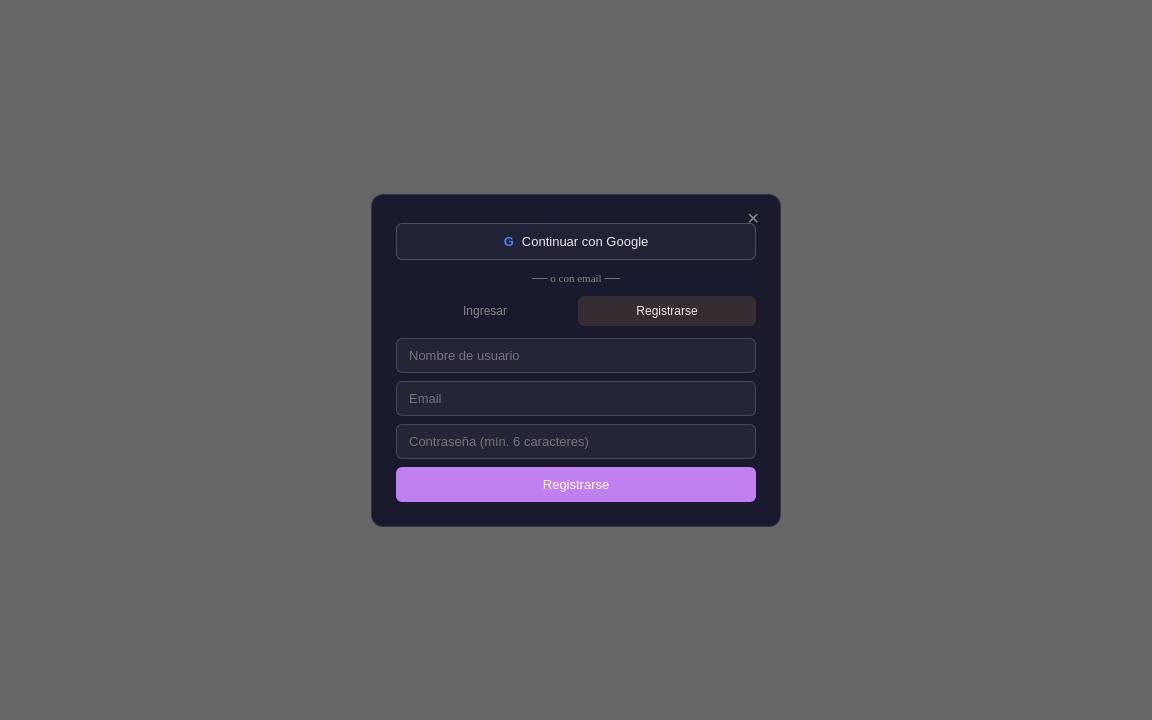
Test case: AuthModal — XSS rendering safety (R08) › renders a signup API error as plain text
Type "validuser" into the field with placeholder "Nombre de usuario" at (576, 355), box [396,338,756,372]
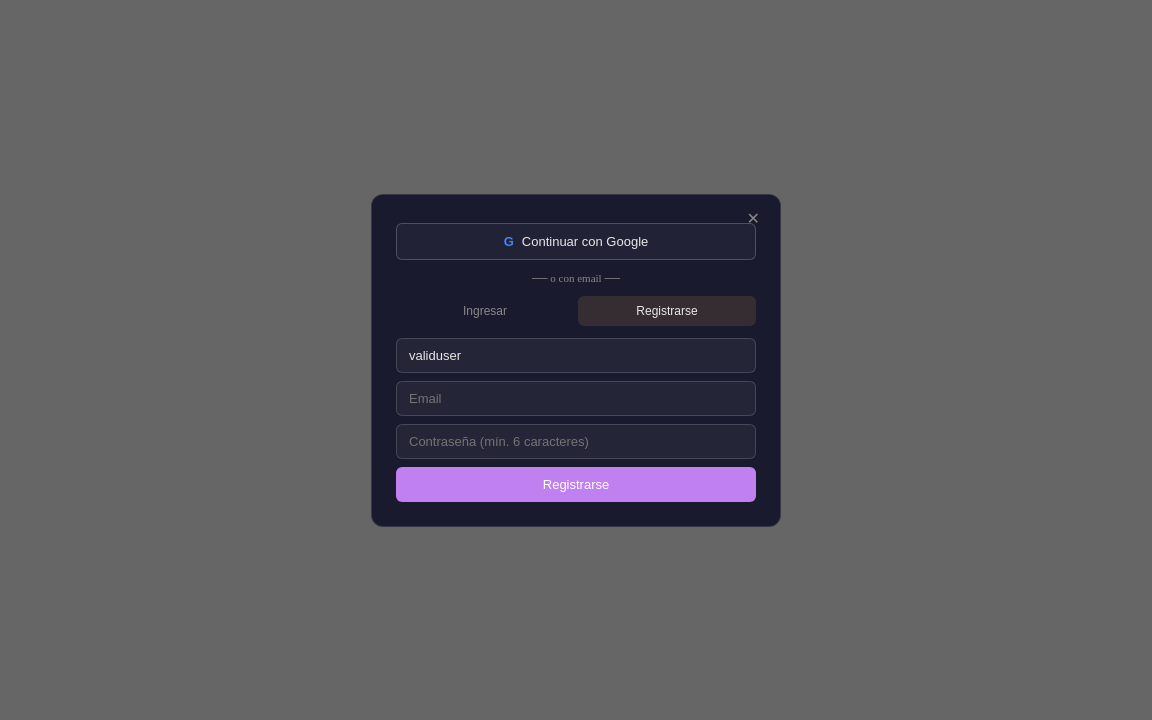
Type "a@b.com" into the field with placeholder "Email" at (576, 398), box [396,380,756,416]
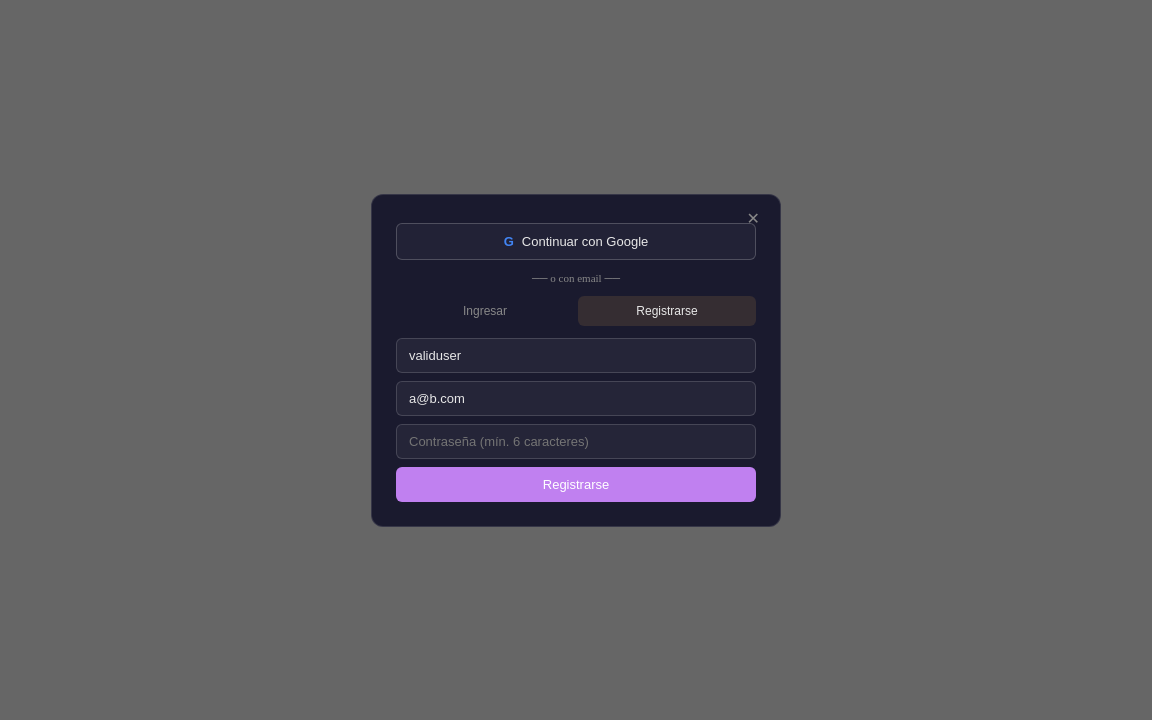
Type "password123" into the password field with placeholder "Contraseña (mín. 6 caracteres)" at (576, 441), box [396,424,756,458]
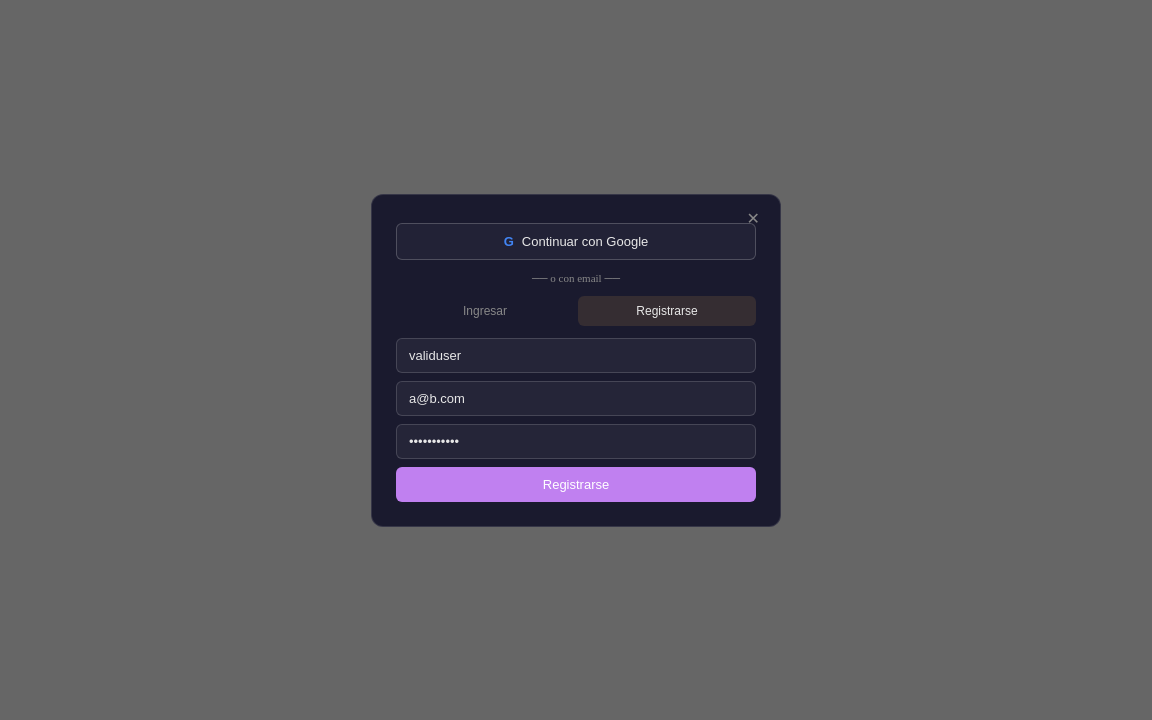
Submit the form, box [396,338,756,502]
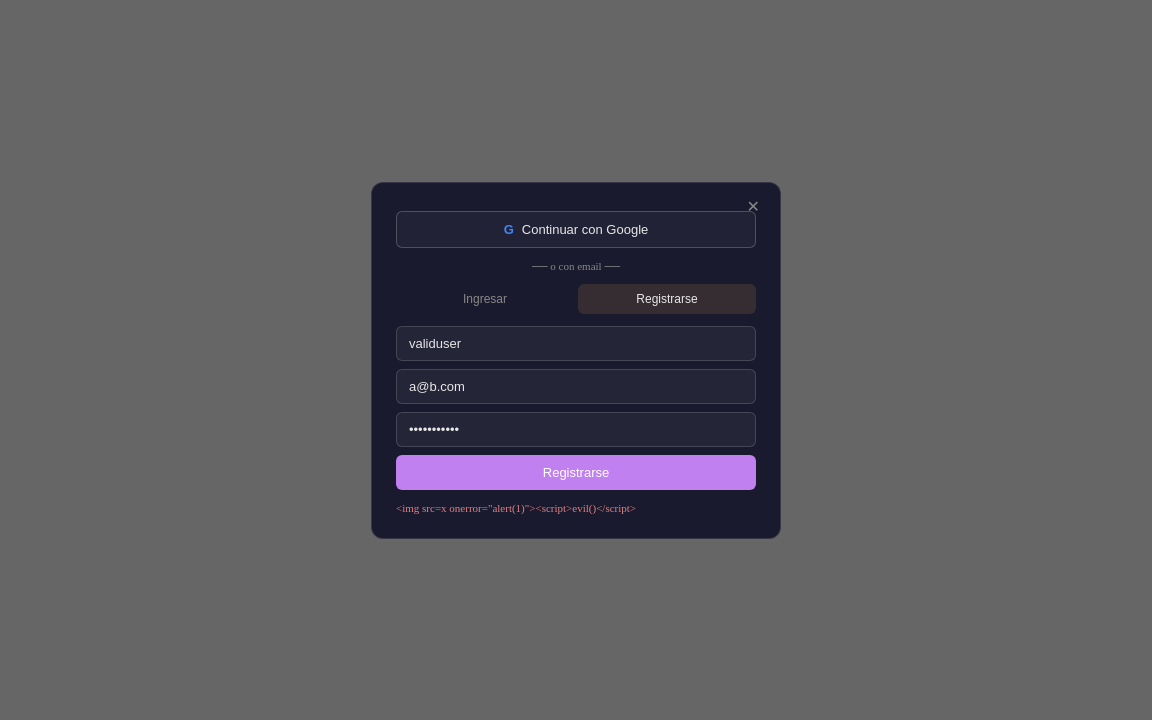
Expected: the message "<img src=x onerror=\"alert(1)\"><script>evil()</script>" is shown, [396,502,636,514]
